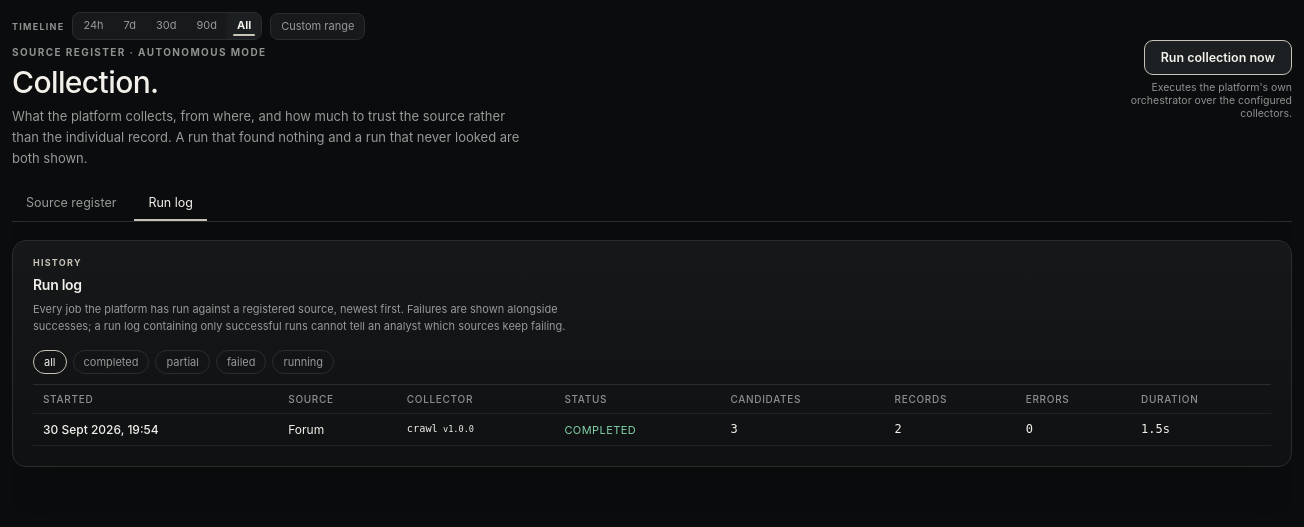
Test: the collection run log under a window › sends the window to the server, which already bounds the log by started_at
This screenshot has width=1304, height=527.
Expected: the text "crawl" is shown, [407,422,438,434]
Step 1. Click the radio button labelled "7d" → point(130, 26), box [114,13,146,39]
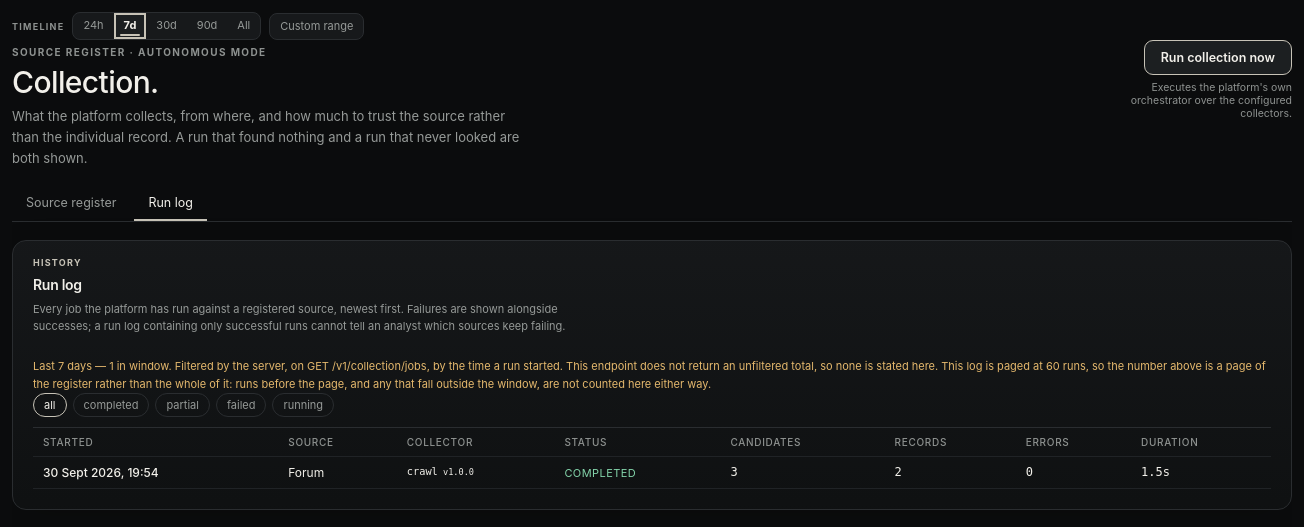
Expected: the text with test id "tr-notice" shows "by the server, on GET /v1/collection/jobs", [33,359,1266,391]
Expected: the text with test id "tr-notice" shows "paged at 60 runs", [33,359,1266,391]
Expected: the text with test id "tr-notice" shows "does not return an unfiltered total", [33,359,1266,391]
